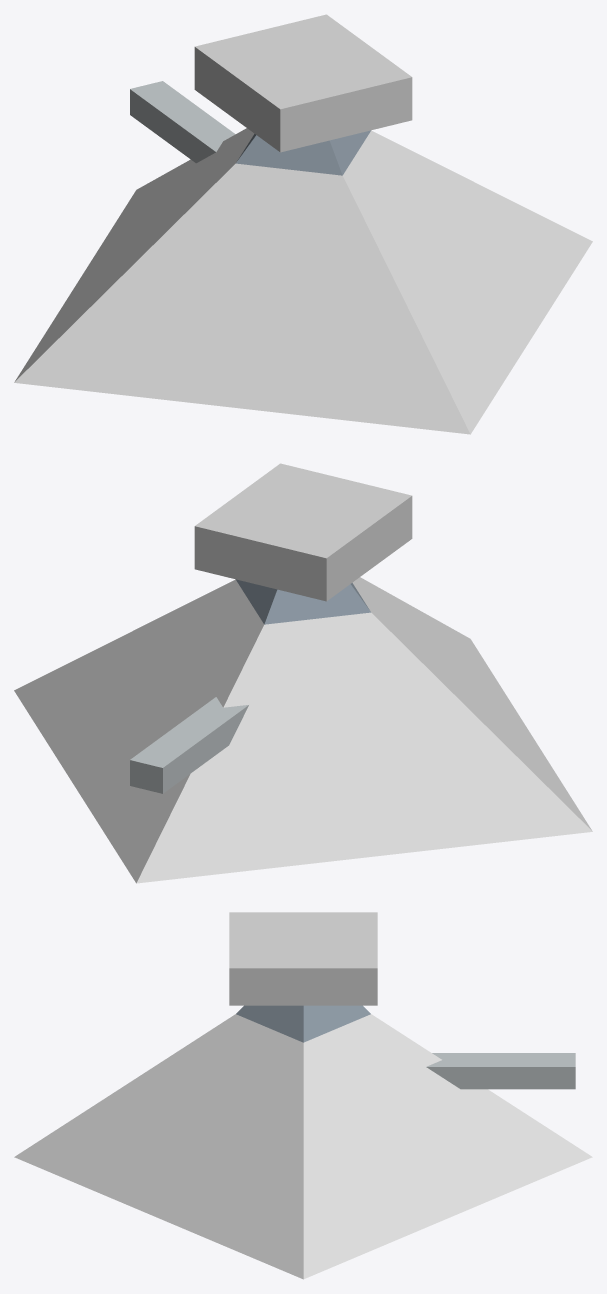
The model's file is scout.gltf.
3 views of the same model, one above another, from view 1: azimuth 30°, elevation 25°; view 2: azimuth 150°, elevation 25°; view 3: azimuth 270°, elevation 25° (orthographic). The views are drawn at different scales.
Parts seen in each view (by area): view 1: distant, close; view 2: distant, close; view 3: distant, close.
Part boxes in pixels (<box>): distant: <box>14,128,592,434</box>; close: <box>130,14,412,175</box>; distant: <box>14,577,592,883</box>; close: <box>130,463,412,793</box>; distant: <box>14,1014,592,1279</box>; close: <box>229,912,575,1089</box>.
Bounding box in the file's own units: 7.02 × 2.9 × 7.02.
